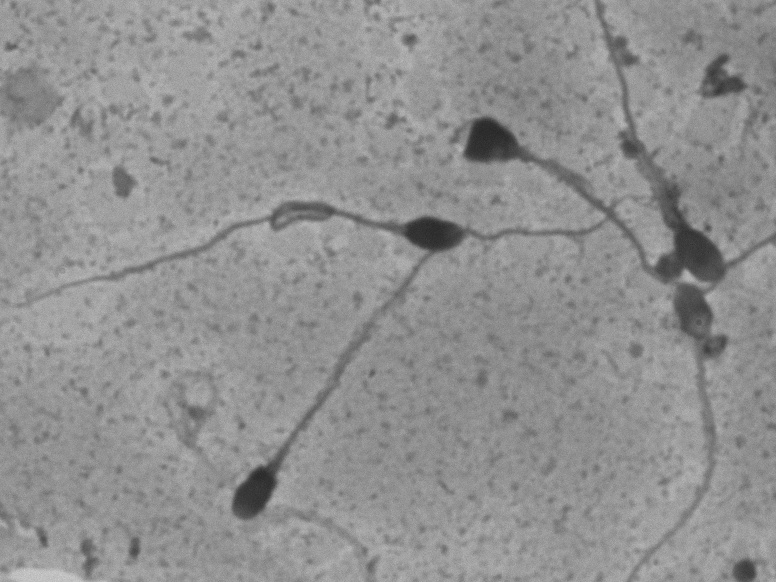Abnormal: (206, 279, 443, 546), (425, 88, 662, 347), (41, 194, 486, 286)
